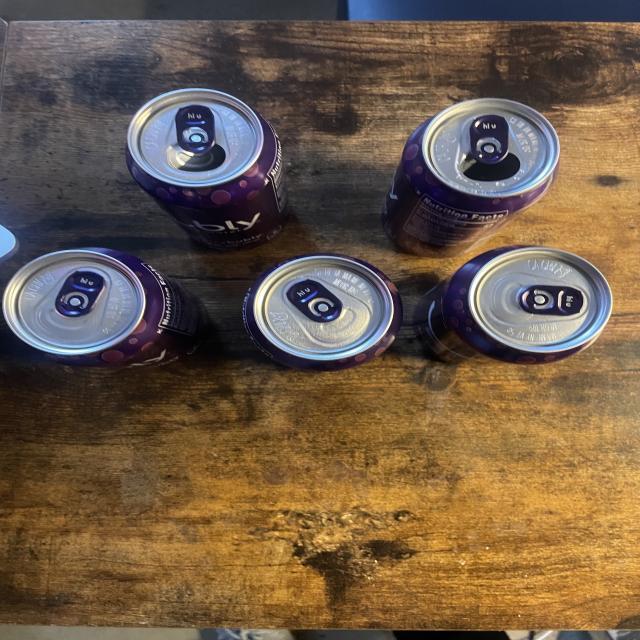Aluminum-Can: (356, 93, 594, 242), (412, 245, 629, 382), (119, 101, 301, 249), (11, 253, 193, 400), (237, 250, 405, 388)
